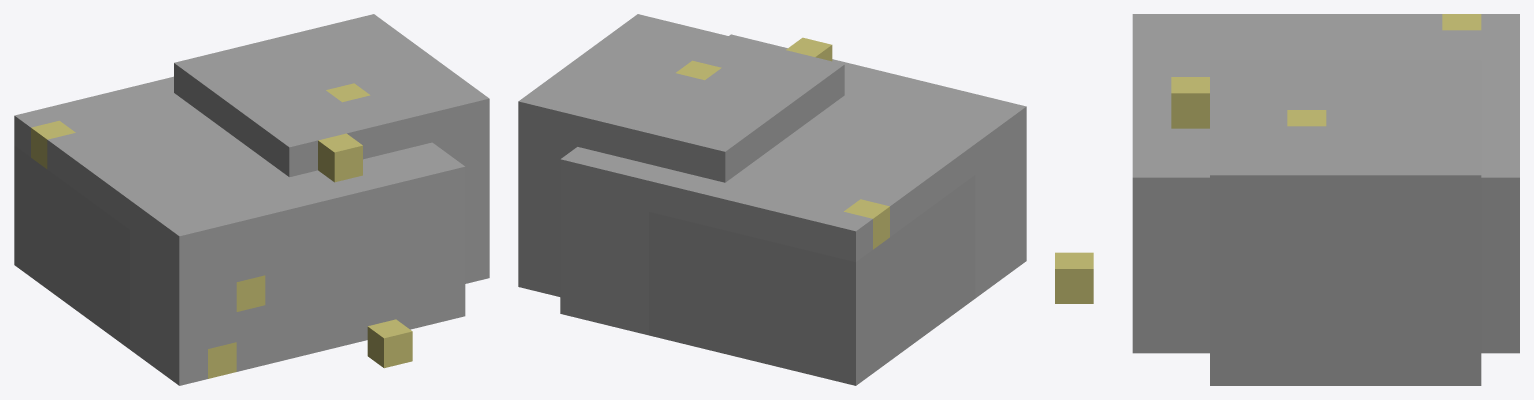
The model's file is azufre_04.glb.
The picture shows the model from 3 angles, left to right: view 1: azimuth 30°, elevation 25°; view 2: azimuth 150°, elevation 25°; view 3: azimuth 270°, elevation 25°; orthographic projection. The views are drawn at different scales.
Parts seen in each view (by area): view 1: azufre_04; view 2: azufre_04; view 3: azufre_04.
Part boxes in pixels (left/top/right/bottom): azufre_04: left=14, top=14, right=489, bottom=385; azufre_04: left=518, top=14, right=1026, bottom=385; azufre_04: left=1055, top=14, right=1519, bottom=385.
Bounding box in the file's own units: 1.2 × 0.6 × 1.2.
